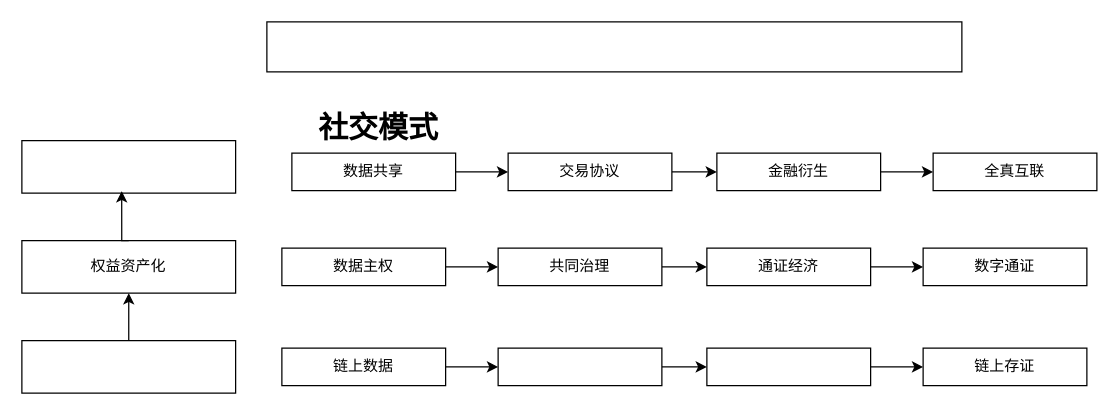
Some shapes in this 1119 by 415 pixel diagram are drawn without their labels. Each missing label, with the centre of its shape:
"共识机制" goes at [579,366].
"可编程性" goes at [788,366].
"数据权益化" goes at [128,366].
"数据资产" goes at [614,46].
"资产流通化" goes at [128,166].
